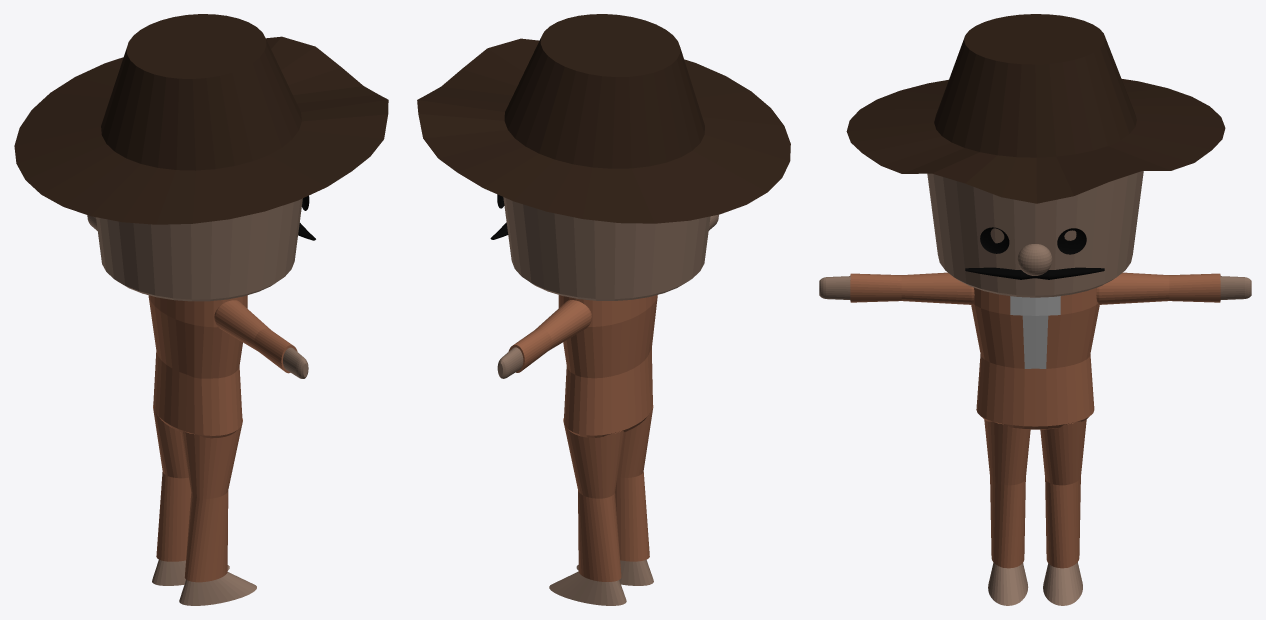
The model's file is peach_stenston.fbx.
3 views of the same model, side by side, from view 1: azimuth 30°, elevation 25°; view 2: azimuth 150°, elevation 25°; view 3: azimuth 270°, elevation 25° (orthographic).
Parts seen in each view (by area): view 1: Cylinder.015, Headd.002, Cylinder.049, Cylinder.052, Cylinder.053, Cylinder.050, Cylinder.047, Cylinder.038, Cylinder.055; view 2: Cylinder.015, Headd.002, Cylinder.049, Cylinder.053, Cylinder.052, Cylinder.051, Cylinder.038, Cylinder.047, Cylinder.056; view 3: Cylinder.015, Headd.002, Cylinder.049, Cylinder.053, Cylinder.052, Cylinder.051, Cylinder.050, Cylinder.047, Cylinder.038, Cylinder.014, Eyes.007, Sphere.002 (+2 smaller).
Part boxes in pixels (x1,y1,x2,y2): Cylinder.015: [14, 14, 388, 224]; Headd.002: [96, 198, 302, 301]; Cylinder.049: [148, 295, 247, 438]; Cylinder.052: [181, 418, 242, 582]; Cylinder.053: [153, 405, 191, 561]; Cylinder.050: [214, 300, 297, 373]; Cylinder.047: [179, 572, 256, 605]; Cylinder.038: [152, 559, 229, 585]; Cylinder.055: [283, 347, 308, 378]; Cylinder.015: [417, 14, 790, 223]; Headd.002: [503, 197, 710, 300]; Cylinder.049: [558, 295, 657, 437]; Cylinder.053: [563, 418, 624, 581]; Cylinder.052: [615, 405, 653, 561]; Cylinder.051: [508, 300, 591, 372]; Cylinder.038: [549, 571, 626, 605]; Cylinder.047: [576, 559, 653, 585]; Cylinder.056: [497, 347, 523, 378]; Cylinder.015: [846, 14, 1225, 203]; Headd.002: [927, 171, 1143, 297]; Cylinder.049: [971, 287, 1099, 429]; Cylinder.053: [1040, 419, 1086, 568]; Cylinder.052: [984, 420, 1030, 568]; Cylinder.051: [1096, 272, 1220, 304]; Cylinder.050: [850, 272, 974, 304]; Cylinder.047: [988, 562, 1028, 605]; Cylinder.038: [1043, 562, 1082, 605]; Cylinder.014: [965, 267, 1104, 279]; Eyes.007: [980, 227, 1086, 254]; Sphere.002: [1017, 244, 1052, 275].
Bounding box in the file's own units: 301 × 484 × 346.
